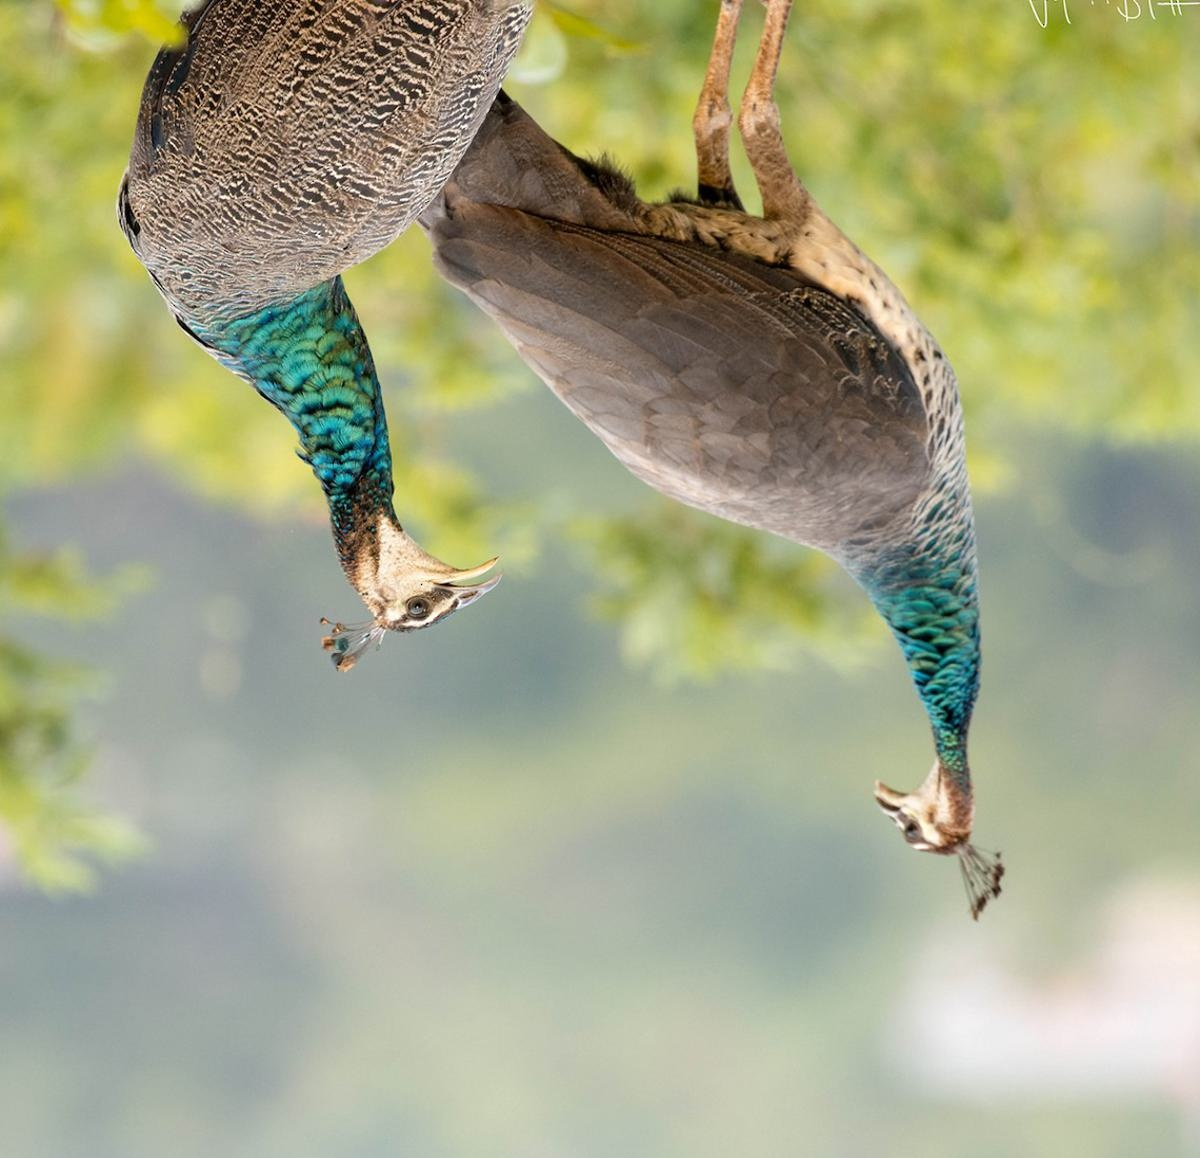peacock: (502, 1, 1061, 997), (118, 1, 560, 707)
